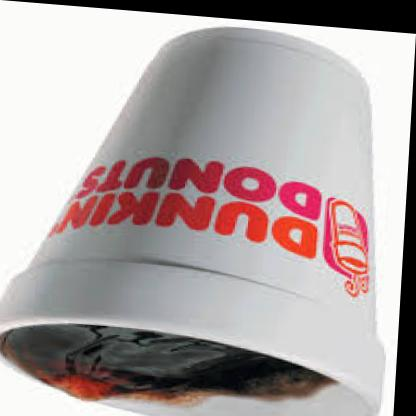Plastic: (12, 2, 408, 416)
